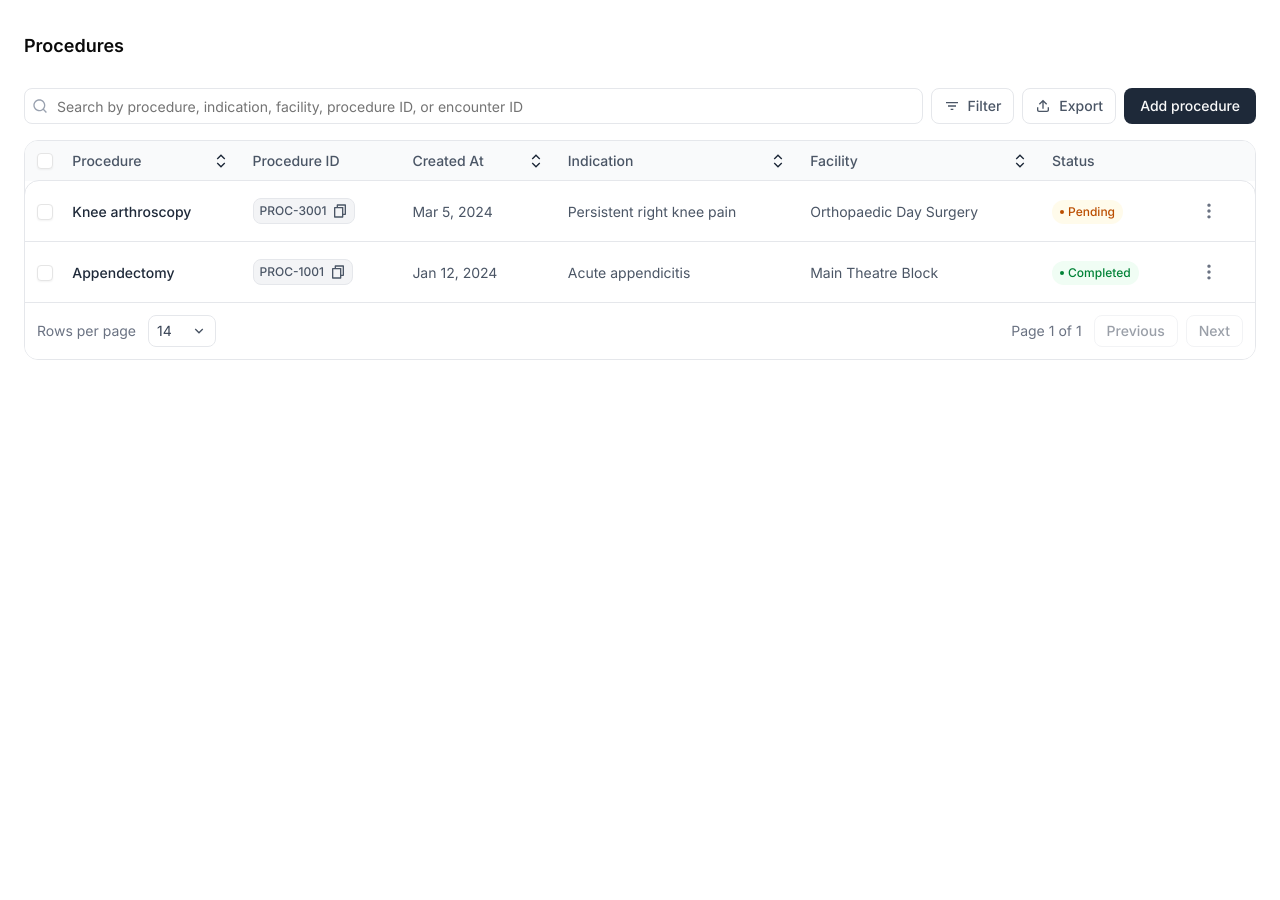
Test case: Procedures table › opens the details drawer with that procedure's data from the row actions
The image size is (1280, 900).
Click the button named "Open actions for Appendectomy" at point(1209, 272), box [1191,254,1227,290]
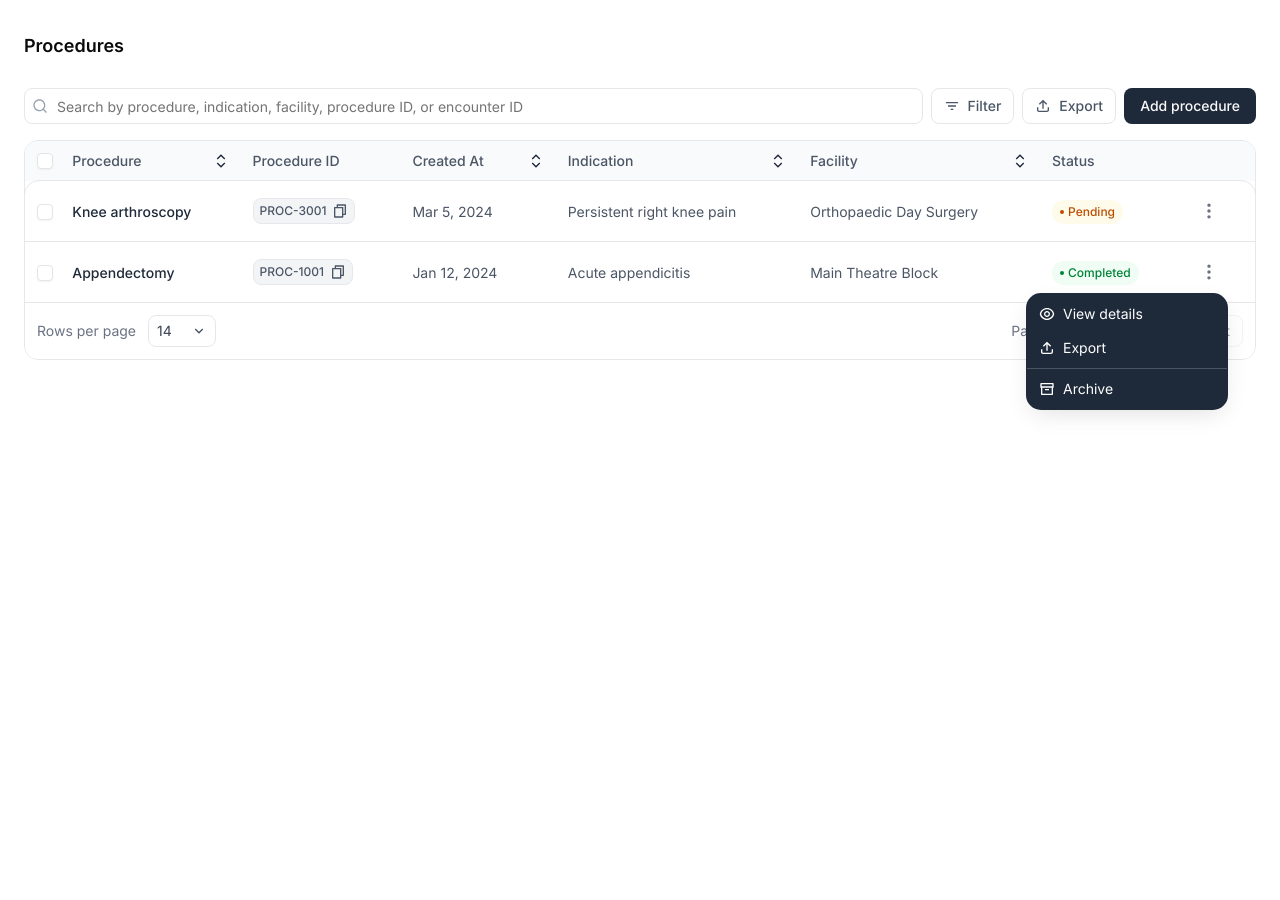
Expected: the menu item "Export" is shown, [1039,339,1106,356]
Click the menu item "View details" at point(1091, 314), box [1039,305,1143,322]
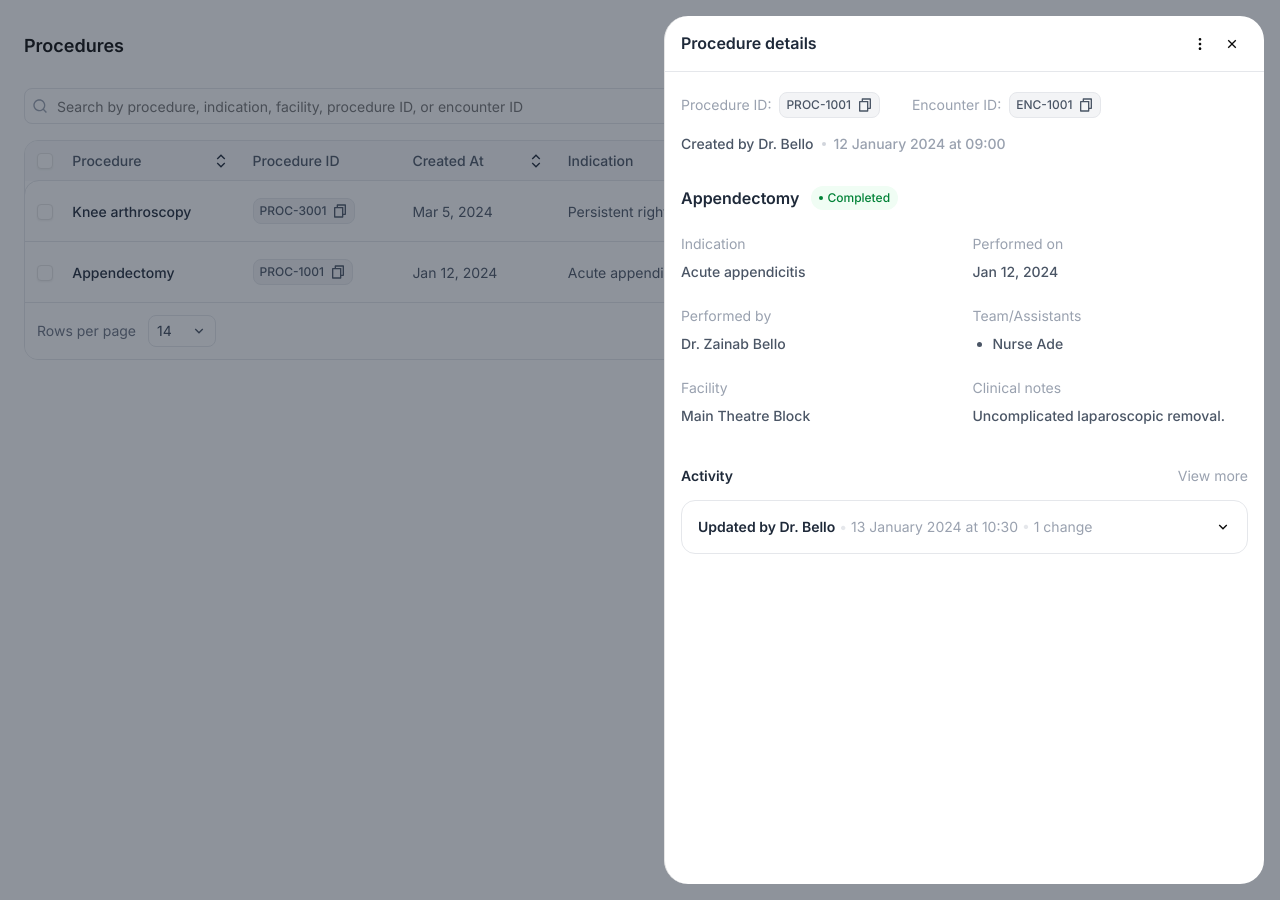
Expected: the heading "Appendectomy" is shown, [681,186,799,210]
Expected: the text "Acute appendicitis" is shown, [681,263,805,280]
Expected: the text "Dr. Zainab Bello" is shown, [681,335,786,352]
